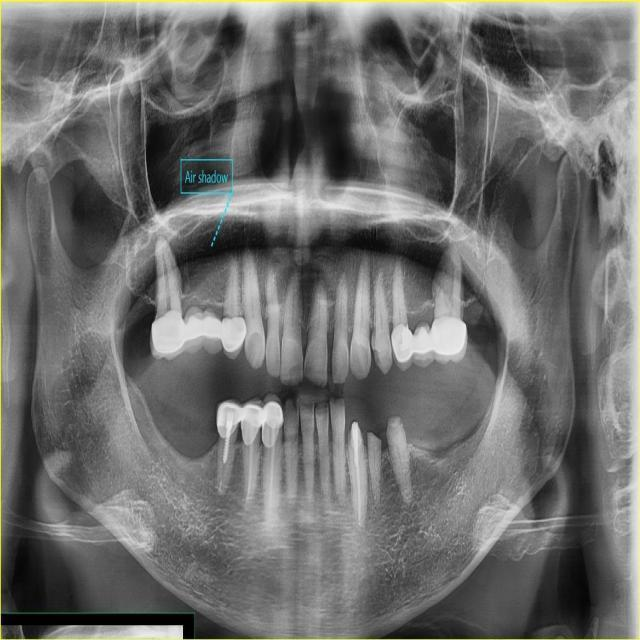Crown: (148, 310, 186, 361), (430, 317, 467, 363), (262, 393, 285, 448), (241, 396, 264, 445), (221, 316, 247, 359), (390, 324, 414, 369), (184, 306, 204, 354), (216, 398, 240, 438), (413, 321, 432, 369), (204, 309, 222, 354)
Root Canal Treatment: (268, 429, 276, 517), (245, 424, 253, 506), (355, 464, 361, 522), (219, 479, 222, 492)
Root Piece: (367, 431, 381, 511)
